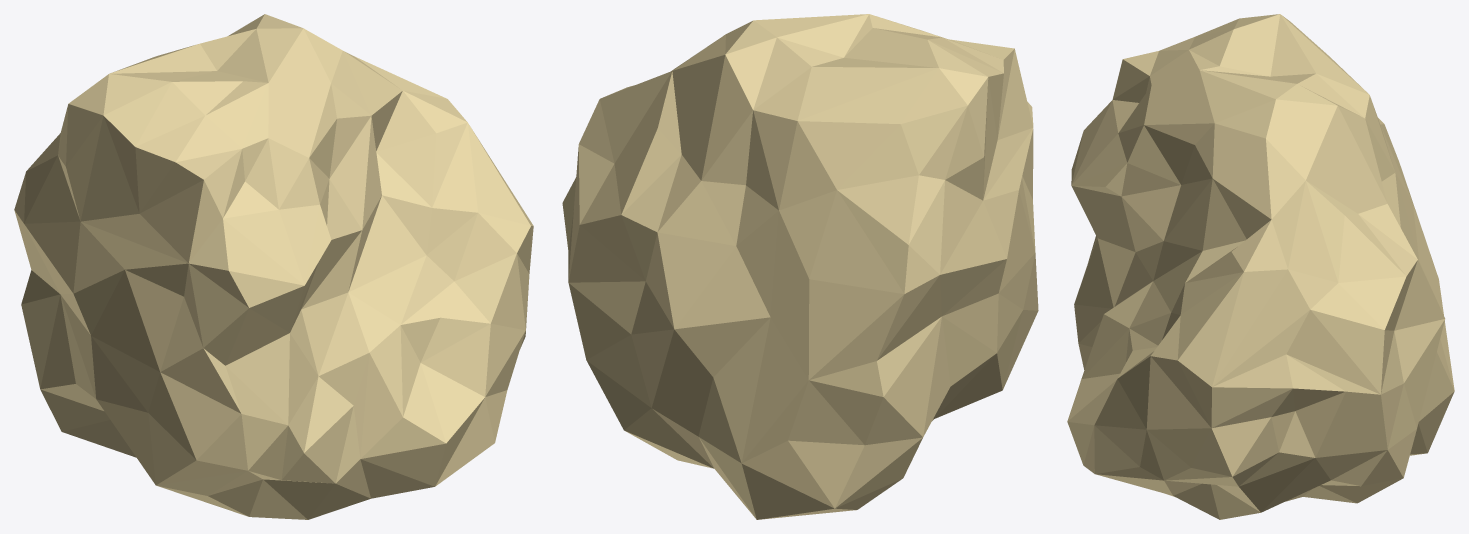
File: Asteroid (100).fbx
3 views of the same model, side by side, from view 1: azimuth 30°, elevation 25°; view 2: azimuth 150°, elevation 25°; view 3: azimuth 270°, elevation 25° (orthographic). The views are drawn at different scales.
Visible parts, largest first — view 1: Asteroid138; view 2: Asteroid138; view 3: Asteroid138.
Part boxes in pixels (x1,y1,x2,y2): Asteroid138: (14,14,533,519); Asteroid138: (562,14,1038,519); Asteroid138: (1067,14,1454,519).
Size of the model in its own units: 256 by 242 by 212.
